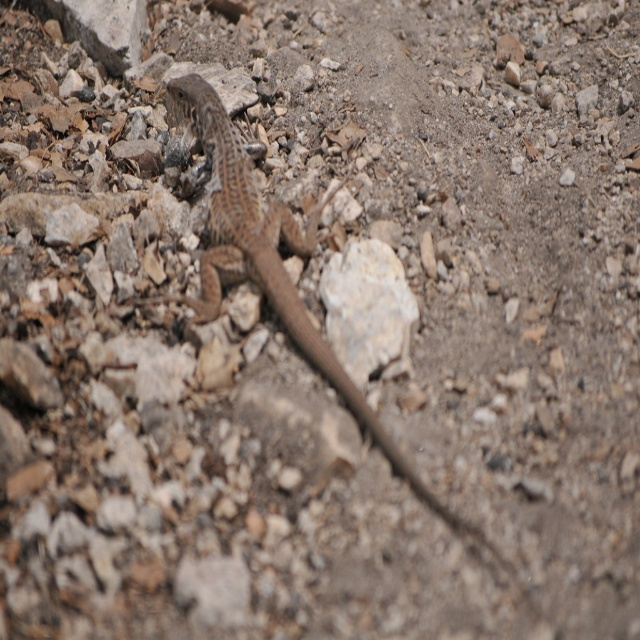Lizard: (154, 55, 484, 603)
